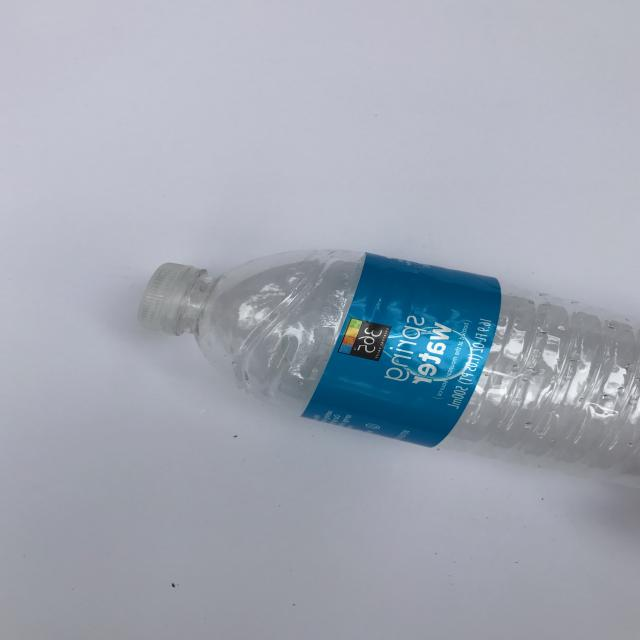plastic: (138, 246, 640, 488)
